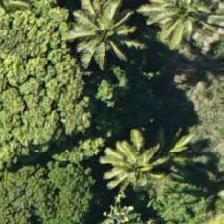coconut_tree: (98, 115, 188, 205), (61, 0, 151, 68), (132, 0, 222, 51)
